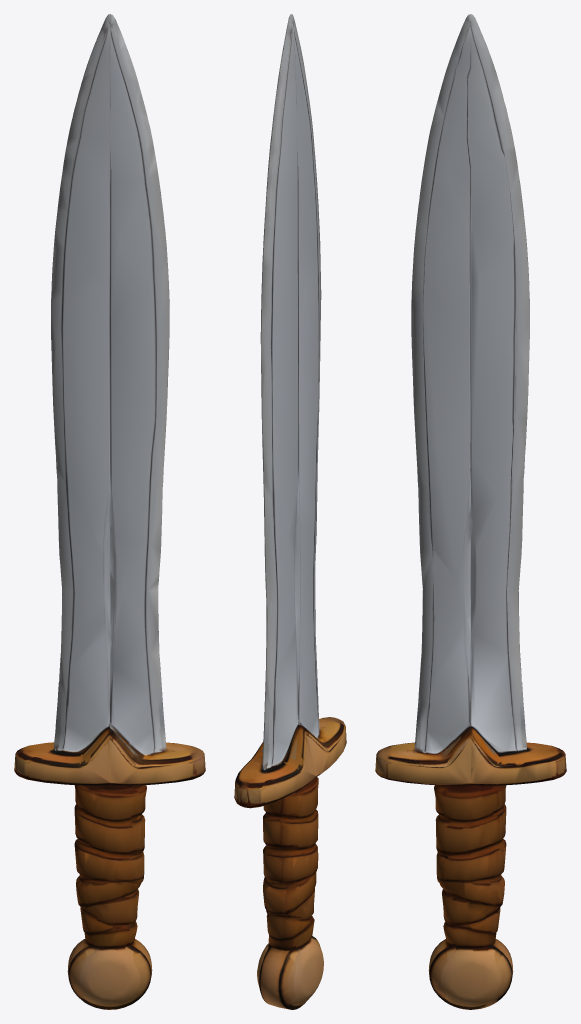
The model's file is sword.glb.
3 renders of one model, left to right at view 1: azimuth 90°, elevation 25°; view 2: azimuth 150°, elevation 25°; view 3: azimuth 270°, elevation 25°, orthographic.
Parts seen in each view (by area): view 1: prop_sword; view 2: prop_sword; view 3: prop_sword.
Boxes of the visible parts, x1,y1,x2,y2 form: prop_sword: (14, 14, 205, 1009); prop_sword: (234, 14, 346, 1009); prop_sword: (375, 14, 566, 1009).
Size of the model in its own units: 0.0469 by 0.85 by 0.1487.
Materials: 1 (1 with a texture image).
